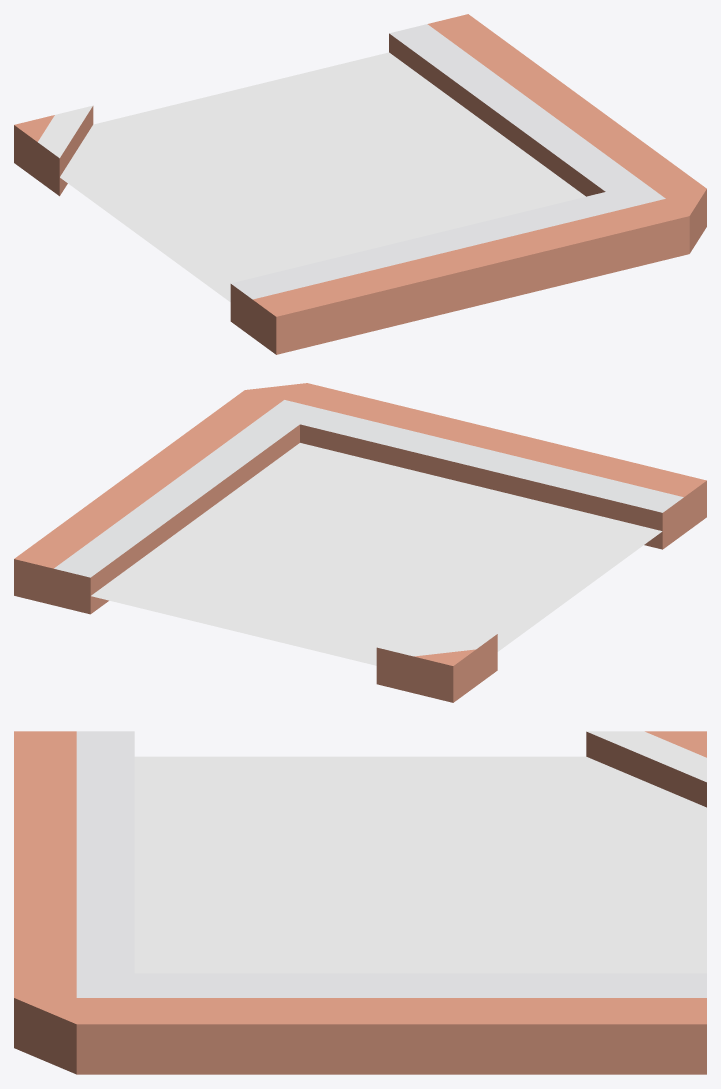
Rendered from metalTileConnectCornerInner.glb.
3 views of the same model, one above another, from view 1: azimuth 30°, elevation 25°; view 2: azimuth 150°, elevation 25°; view 3: azimuth 270°, elevation 25° (orthographic). The views are drawn at different scales.
Visible parts, largest first — view 1: metalTileConnectCornerInner; view 2: metalTileConnectCornerInner; view 3: metalTileConnectCornerInner.
Boxes of the visible parts, left/top/right/bottom form: metalTileConnectCornerInner: left=14, top=14, right=706, bottom=354; metalTileConnectCornerInner: left=14, top=383, right=706, bottom=702; metalTileConnectCornerInner: left=14, top=731, right=706, bottom=1074.
Bounding box in the file's own units: 10 × 0.8 × 10.
